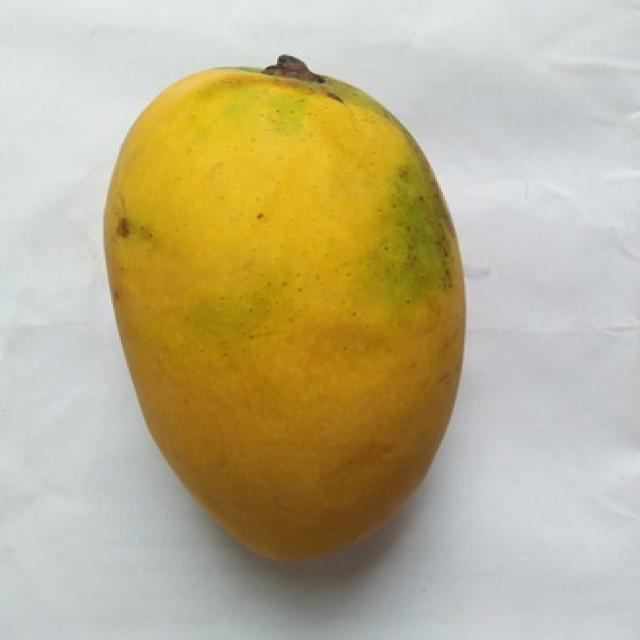Mango: (109, 62, 462, 559)
